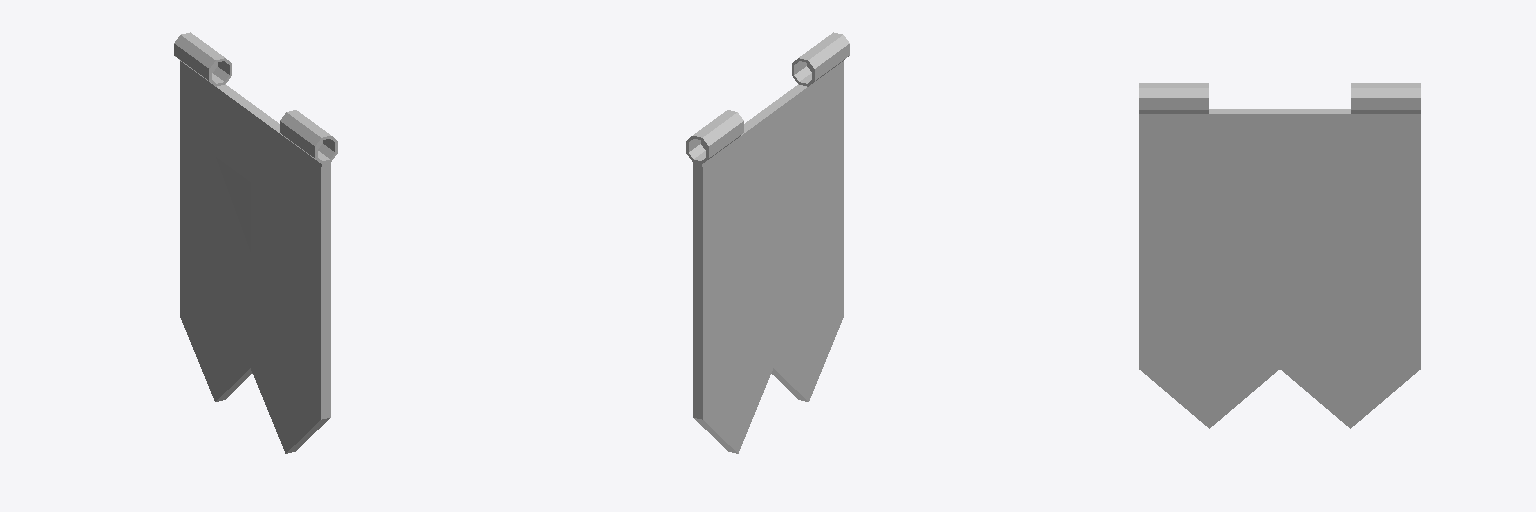
The model's file is Floating_Banner.obj.
3 views of the same model, side by side, from view 1: azimuth 30°, elevation 25°; view 2: azimuth 150°, elevation 25°; view 3: azimuth 270°, elevation 25° (orthographic).
Visible parts, largest first — view 1: BannerD_Cube.016; view 2: BannerD_Cube.016; view 3: BannerD_Cube.016.
Part boxes in pixels (x1,y1,x2,y2): BannerD_Cube.016: (174,32,337,453); BannerD_Cube.016: (686,32,849,453); BannerD_Cube.016: (1139,83,1420,428).
Size of the model in its own units: 0.1777 by 2.55 by 1.9.